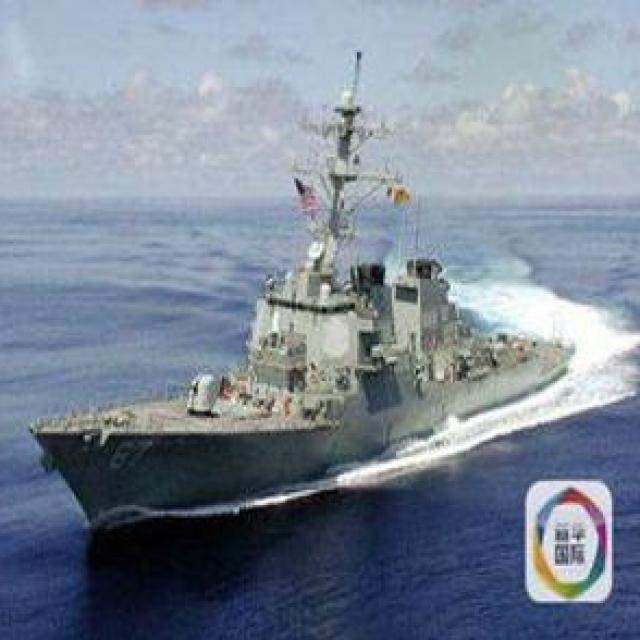navalvessels: (24, 42, 566, 532)
